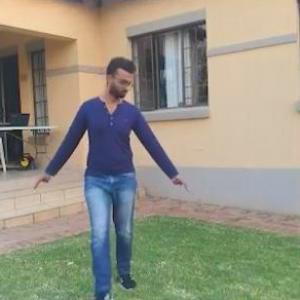land: (24, 45, 198, 294)
